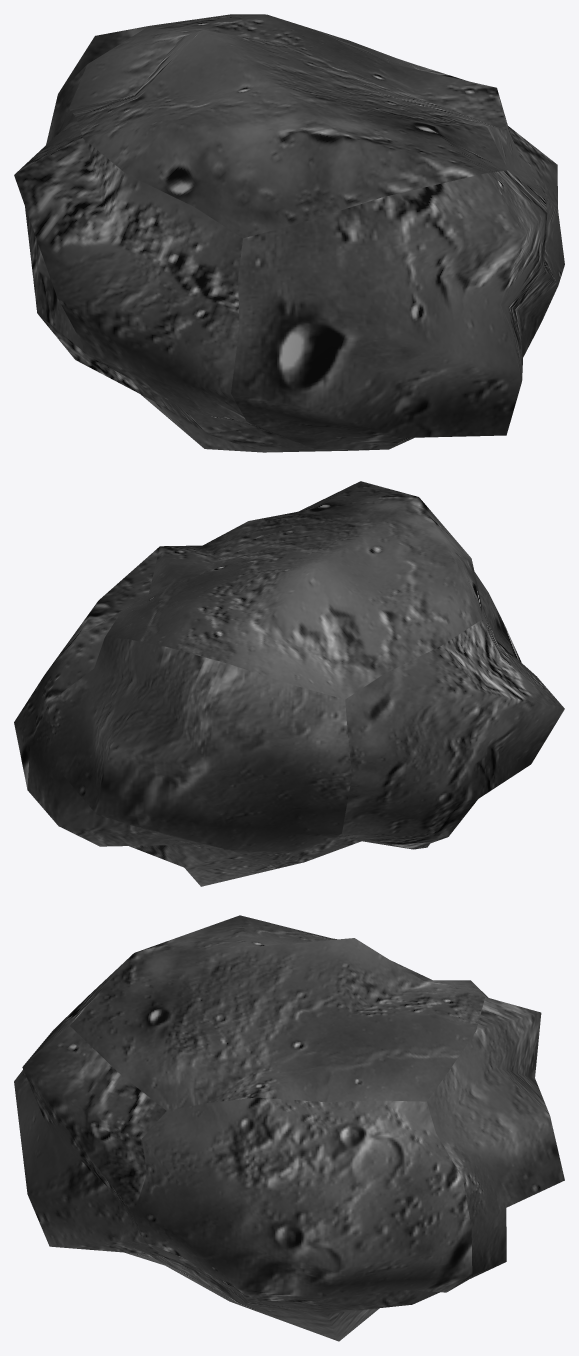
Rendered from asteroid_0.glb.
3 views of the same model, one above another, from view 1: azimuth 30°, elevation 25°; view 2: azimuth 150°, elevation 25°; view 3: azimuth 270°, elevation 25° (orthographic). The views are drawn at different scales.
Visible parts, largest first — view 1: rock_c_01; view 2: rock_c_01; view 3: rock_c_01.
Part boxes in pixels (left/top/right/bottom): rock_c_01: left=14, top=14, right=564, bottom=452; rock_c_01: left=14, top=481, right=564, bottom=886; rock_c_01: left=14, top=915, right=564, bottom=1341.
Size of the model in its own units: 3.01 by 2.13 by 3.08.
1 material, 1 textured.
